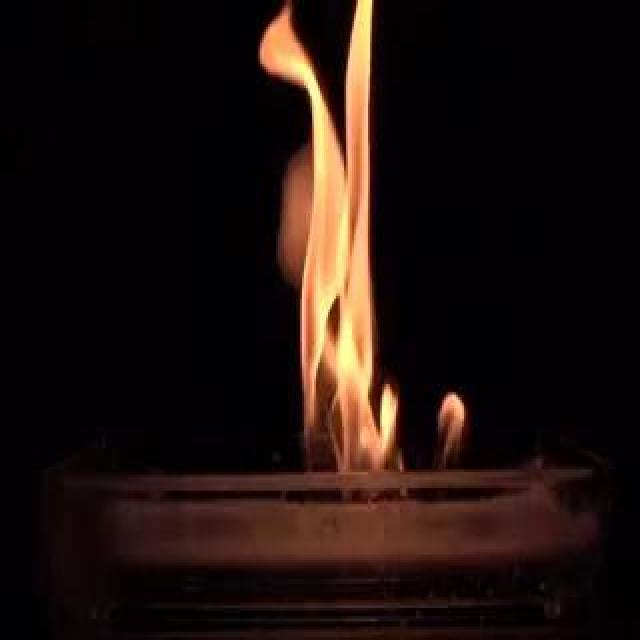Fire: (254, 7, 471, 470)
